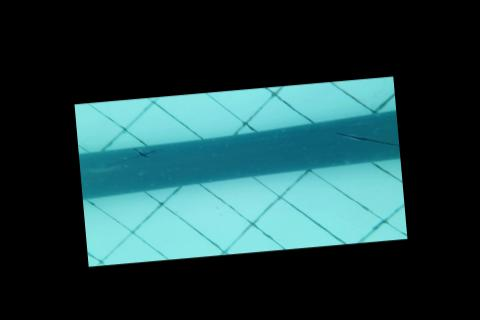keretakan: (336, 126, 399, 151), (120, 145, 161, 160)
